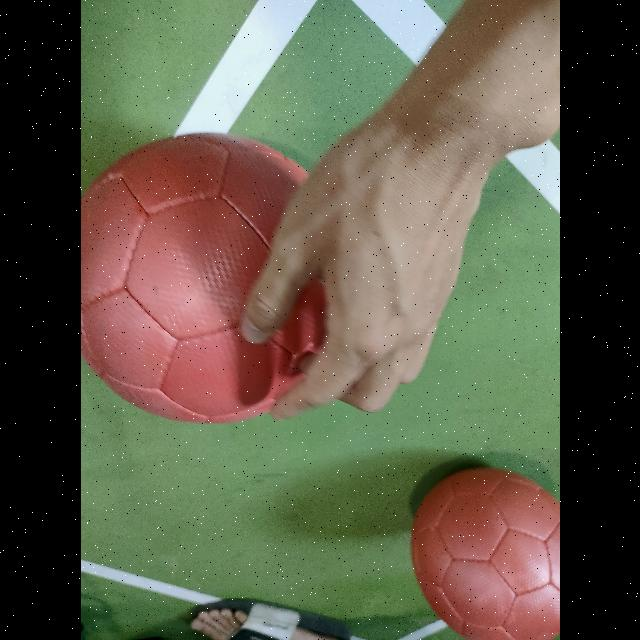R: (80, 131, 338, 425), (410, 466, 560, 640)
